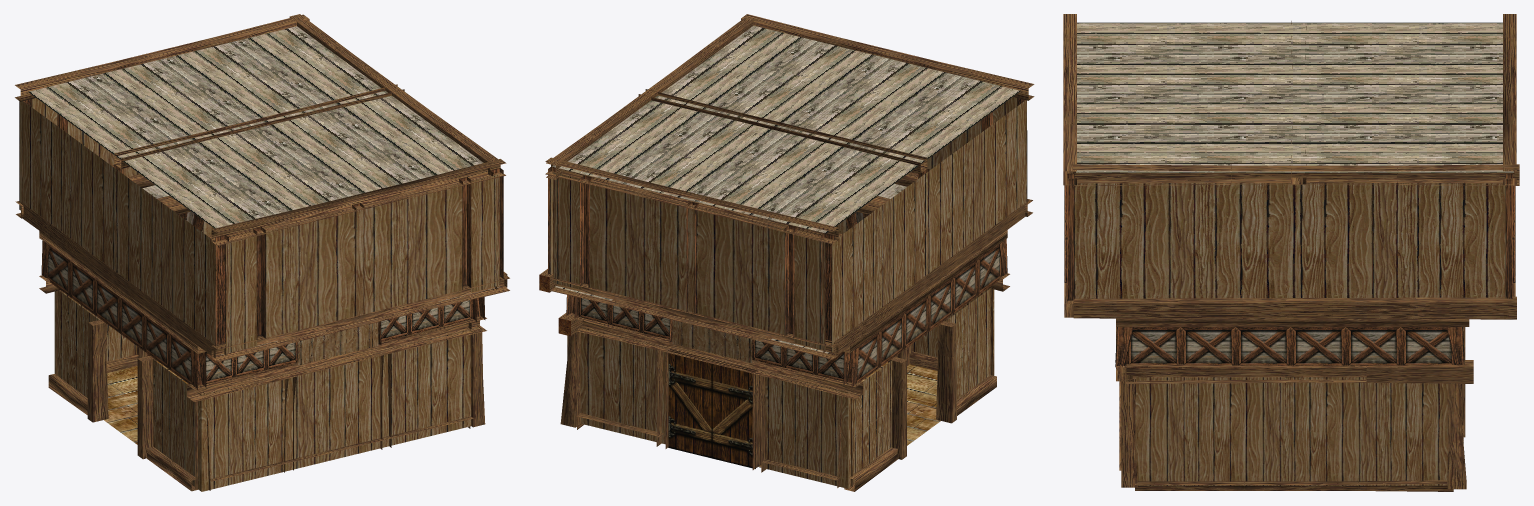
The model's file is LAKETOWN_WAREHOUSE1_PS_WH1_FRONTROOM7746__GX.fbx.
The picture shows the model from 3 angles, left to right: view 1: azimuth 30°, elevation 25°; view 2: azimuth 150°, elevation 25°; view 3: azimuth 270°, elevation 25°; orthographic projection. The views are drawn at different scales.
Visible parts, largest first — view 1: LAKETOWN_WAREHOUSE1_PS_WH1_FRONTROOM7746__GX; view 2: LAKETOWN_WAREHOUSE1_PS_WH1_FRONTROOM7746__GX; view 3: LAKETOWN_WAREHOUSE1_PS_WH1_FRONTROOM7746__GX.
Boxes of the visible parts, x1,y1,x2,y2 form: LAKETOWN_WAREHOUSE1_PS_WH1_FRONTROOM7746__GX: (15, 14, 509, 491); LAKETOWN_WAREHOUSE1_PS_WH1_FRONTROOM7746__GX: (539, 14, 1034, 491); LAKETOWN_WAREHOUSE1_PS_WH1_FRONTROOM7746__GX: (1063, 14, 1519, 491).
Bounding box in the file's own units: 84890 × 79409 × 101670.
Materials: 11 (11 with a texture image).
